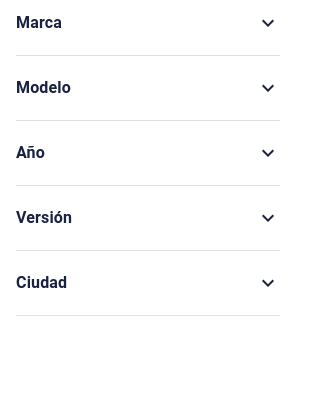
it: MenuAside › should render the year options
Expected: the text "Año" is shown, top-left (16, 141), bottom-right (45, 165)
Step 1. Click the button "Año" → (30, 152), box top-left (16, 121), bottom-right (280, 185)
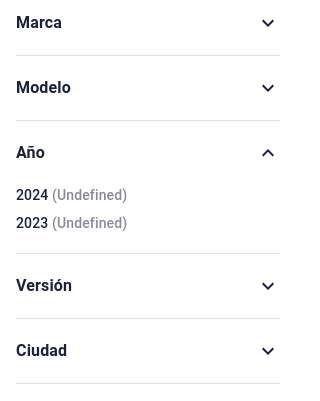
Expected: the text "2024 (undefined)" is shown, top-left (16, 185), bottom-right (127, 205)
Expected: the text "2023 (undefined)" is shown, top-left (16, 213), bottom-right (127, 233)
